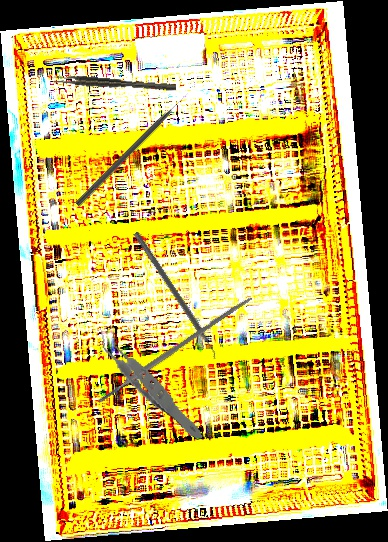Hook Surgical: (74, 90, 192, 208)
Scalpel Handle: (96, 294, 254, 404)
Spatula Surgical: (127, 231, 222, 362)
Tissue Forceps: (97, 310, 205, 455), (53, 73, 177, 95)
